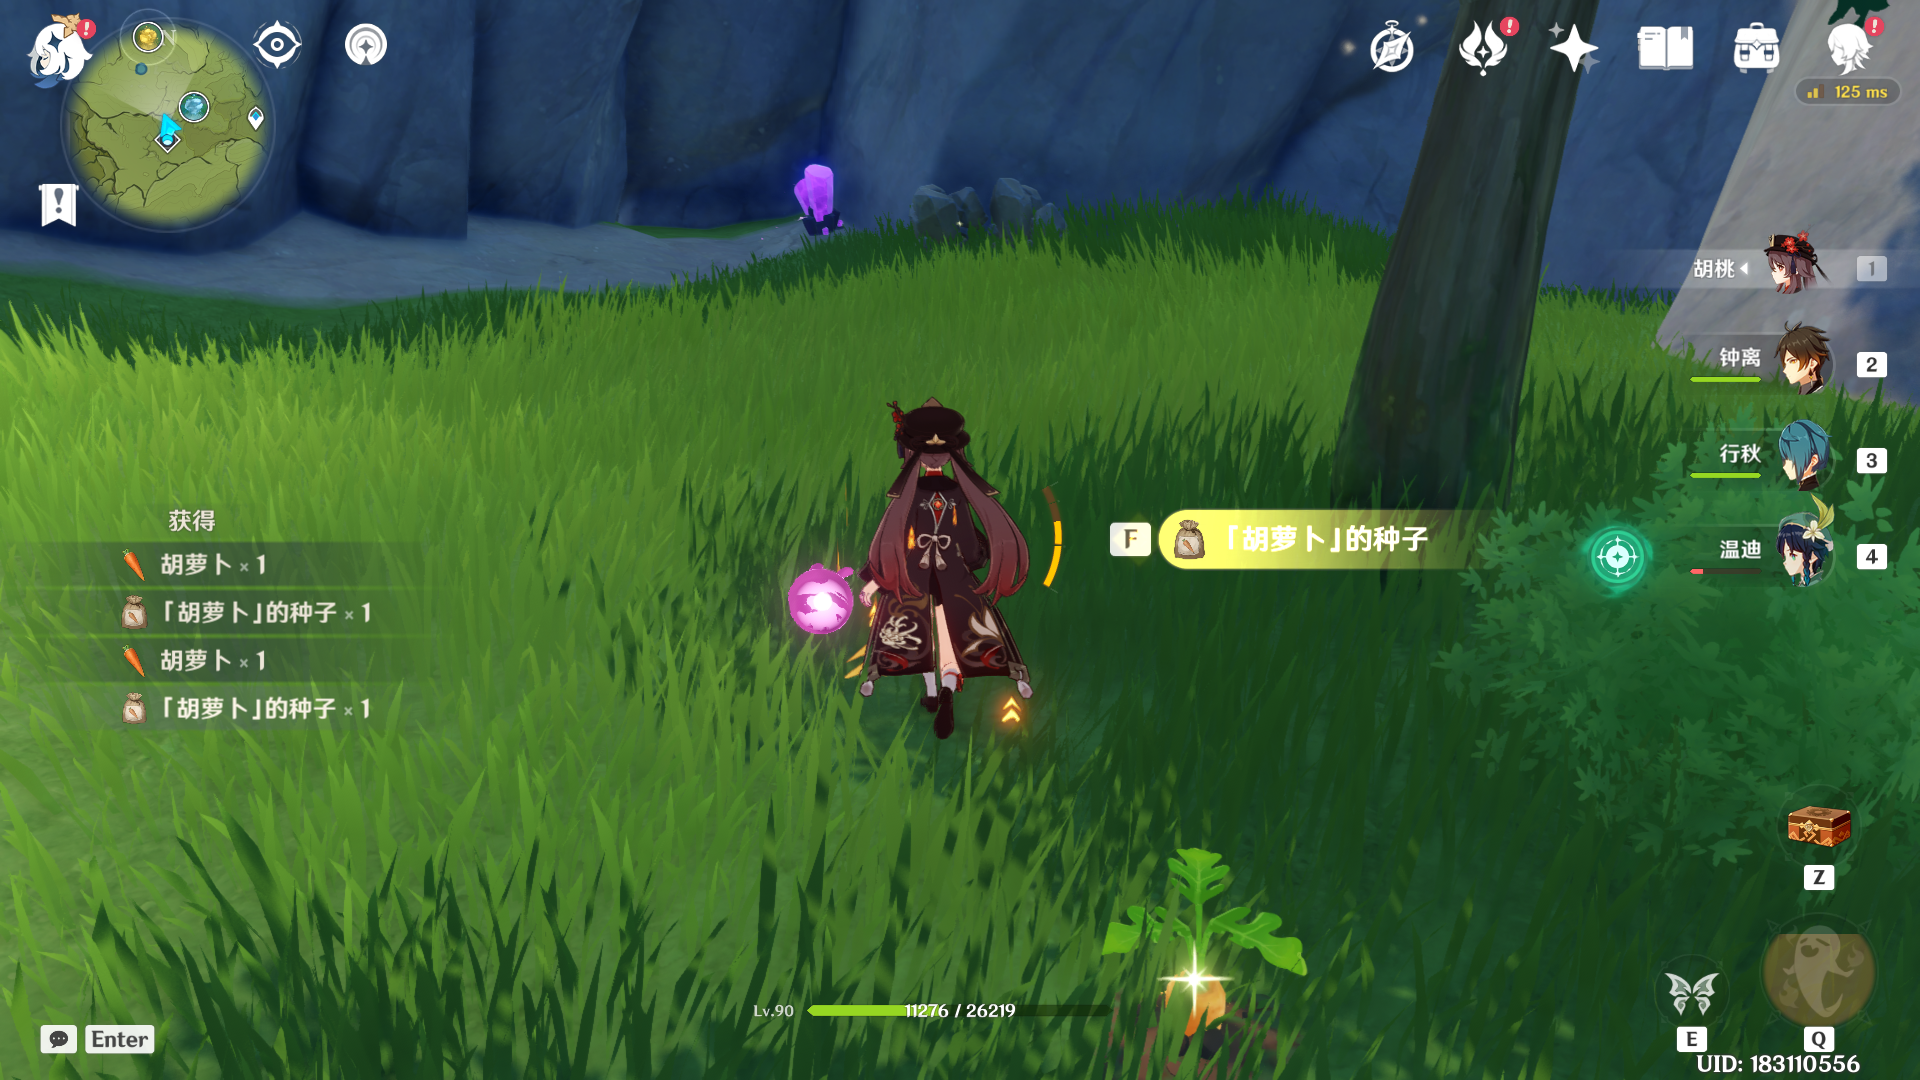character: (786, 386, 1083, 769)
